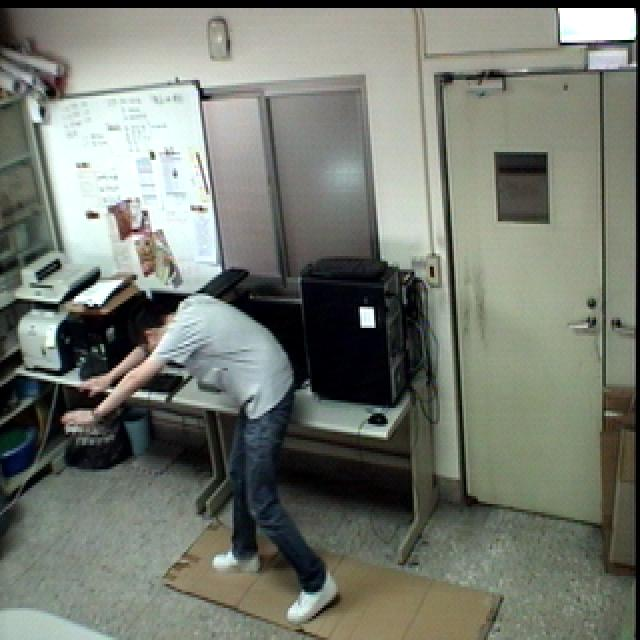bend: (56, 288, 338, 630)
